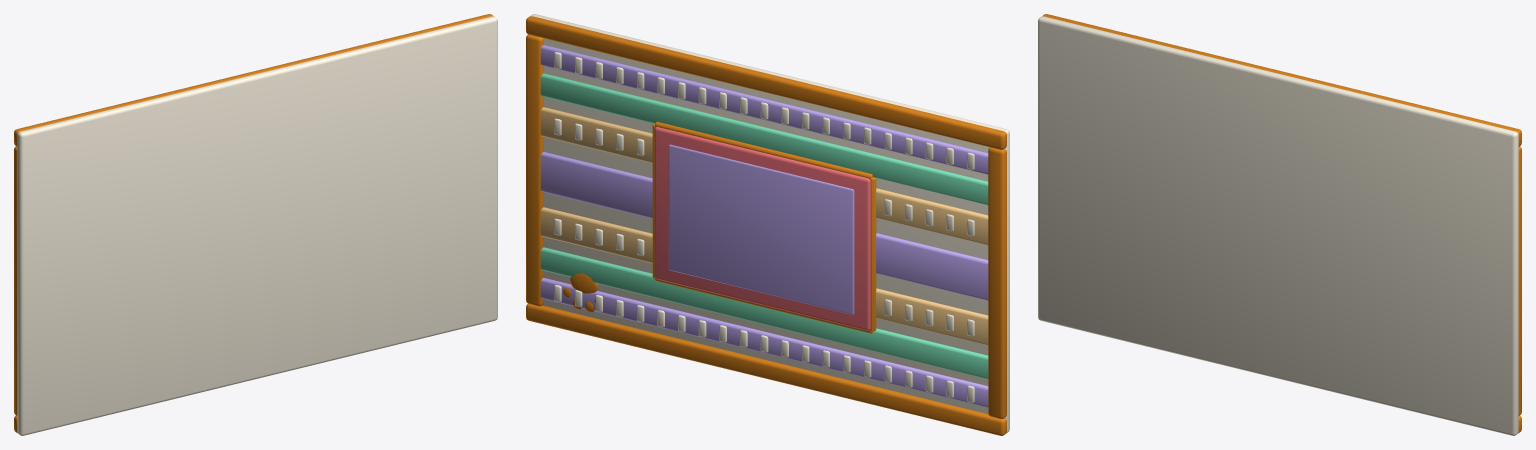
File: LoftFloorRunner_Premium.fbx
The picture shows the model from 3 angles, left to right: view 1: azimuth 30°, elevation 25°; view 2: azimuth 150°, elevation 25°; view 3: azimuth 330°, elevation 25°; orthographic projection.
Visible parts, largest first — view 1: LoftFloorRunner; view 2: LoftFloorRunner; view 3: LoftFloorRunner.
Part boxes in pixels (bbox=[...]): LoftFloorRunner: bbox=[14, 14, 497, 435]; LoftFloorRunner: bbox=[526, 14, 1009, 435]; LoftFloorRunner: bbox=[1038, 14, 1521, 435].
Bounding box in the file's own units: 1.9 × 1.15 × 0.077.
